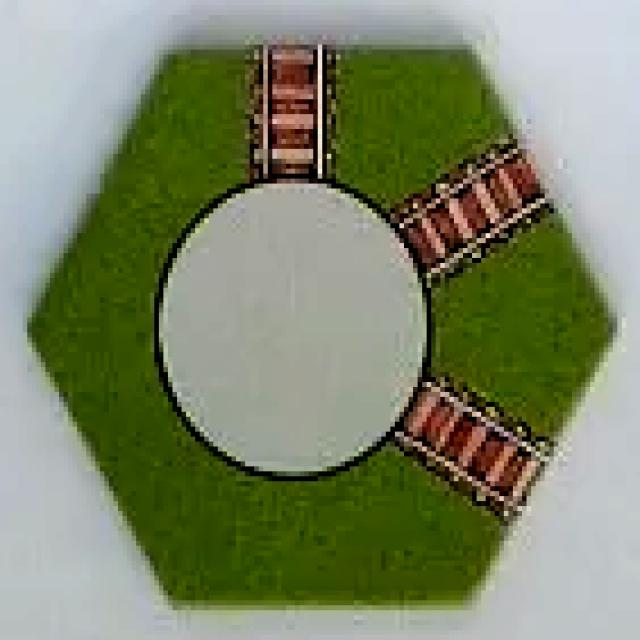12_3: (31, 38, 620, 610)
